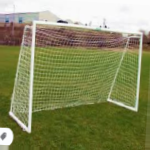goals: (8, 19, 143, 134)
